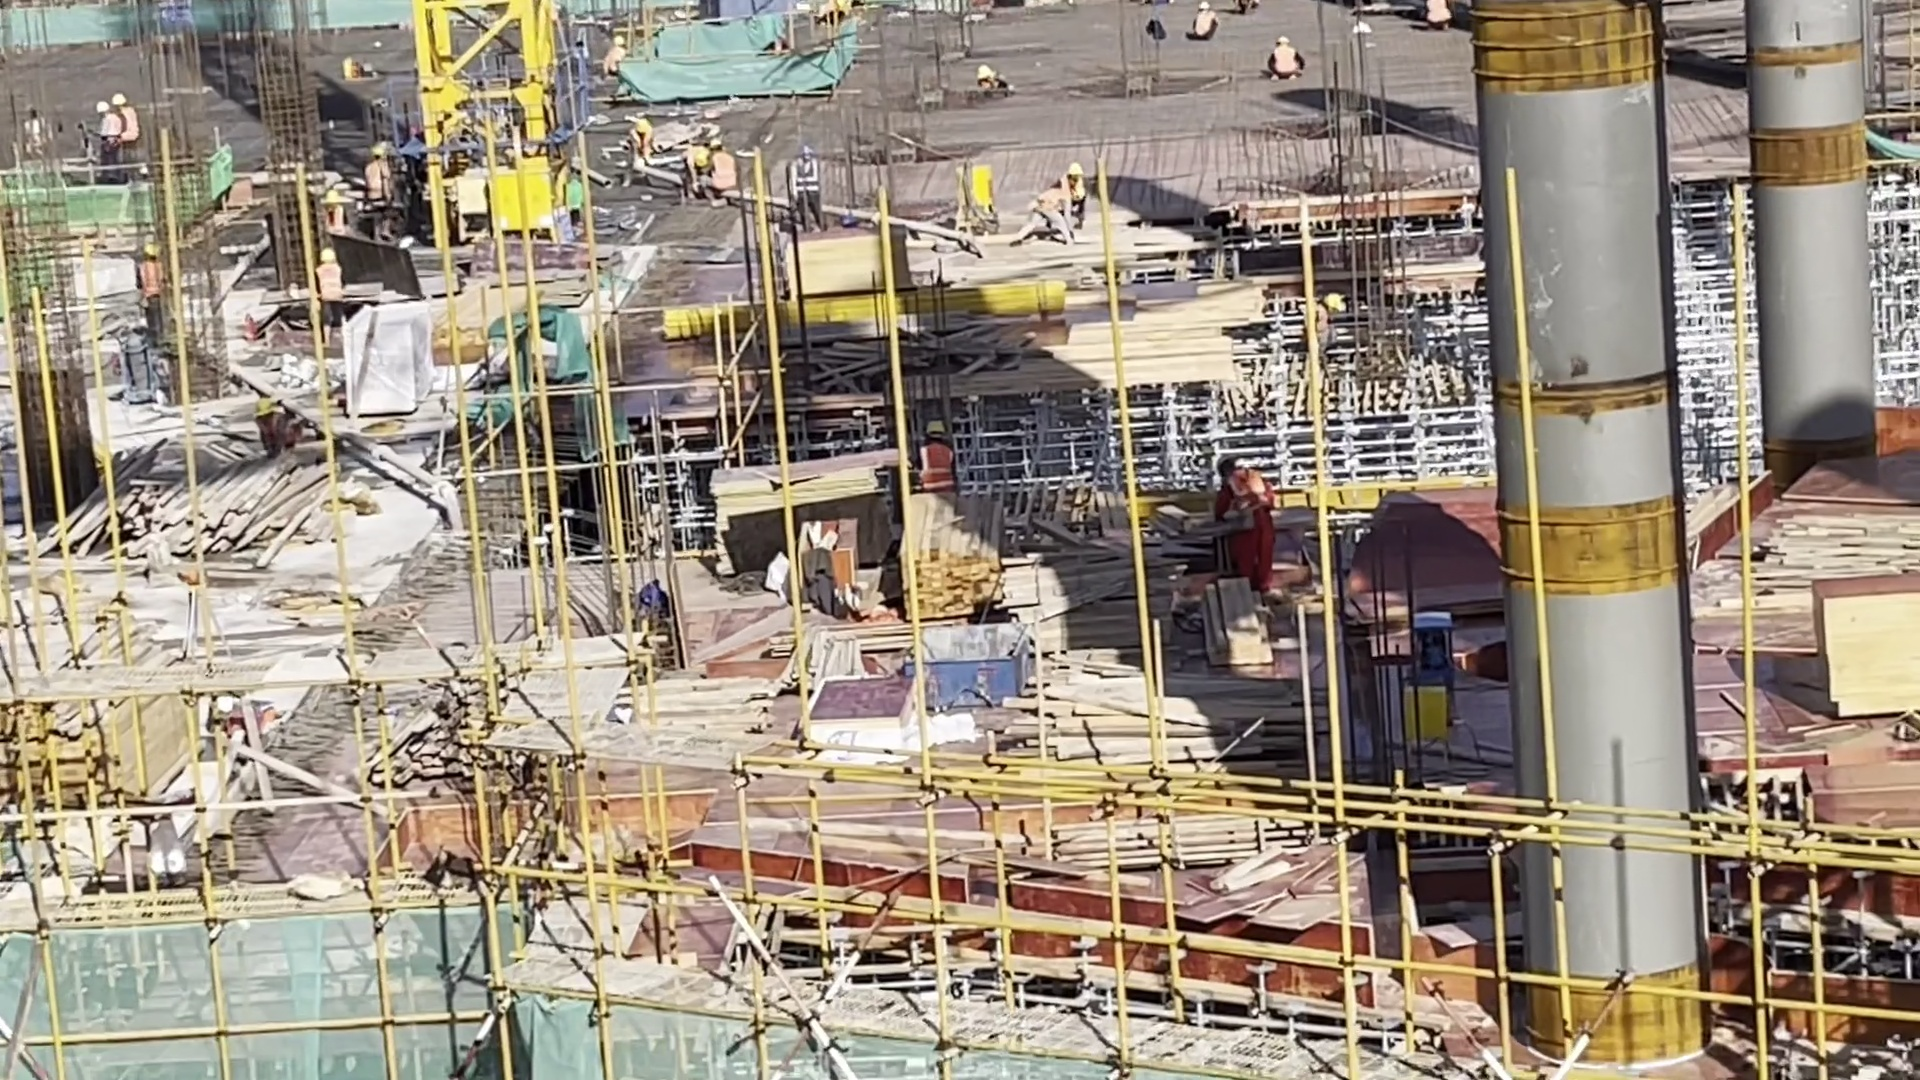helmet: (926, 418, 953, 445), (314, 239, 336, 266), (140, 238, 164, 263), (630, 118, 653, 144), (1323, 287, 1344, 314), (107, 87, 127, 113), (366, 146, 388, 167), (90, 98, 111, 117), (971, 62, 992, 81), (1067, 160, 1083, 180), (1192, 1, 1211, 15), (1274, 36, 1288, 49)
person: (1219, 458, 1284, 585), (1028, 187, 1079, 252), (368, 148, 401, 243), (309, 248, 347, 330), (909, 423, 959, 485), (136, 245, 175, 321), (702, 139, 740, 213), (1047, 153, 1088, 221), (113, 98, 155, 164), (1259, 36, 1312, 87), (667, 137, 710, 198), (966, 58, 1013, 106), (620, 120, 654, 183), (96, 102, 121, 181), (1189, 1, 1224, 49)
vest: (1219, 475, 1258, 517), (319, 265, 346, 308), (915, 447, 948, 480), (712, 154, 738, 192), (139, 268, 165, 302), (792, 162, 821, 191), (121, 109, 140, 139), (370, 167, 387, 200), (1196, 15, 1214, 38), (1275, 51, 1292, 74)
